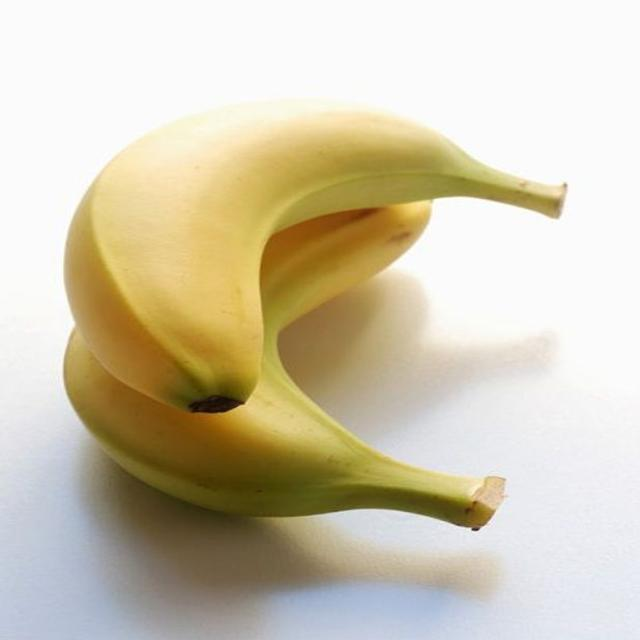unpeal banana: (66, 101, 564, 411), (66, 204, 503, 527)
